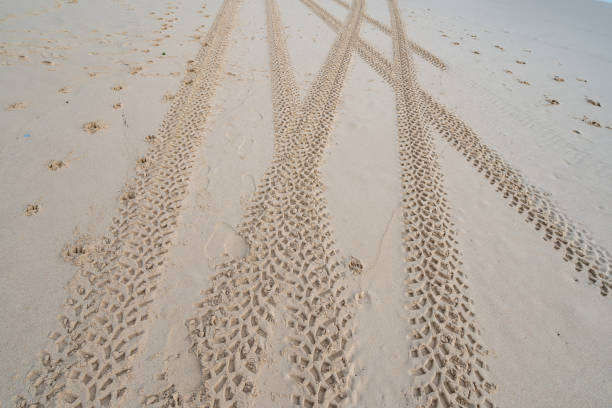vehicle_track: (16, 0, 240, 407), (188, 0, 362, 407), (388, 0, 494, 407), (420, 89, 611, 295), (406, 38, 446, 69)
